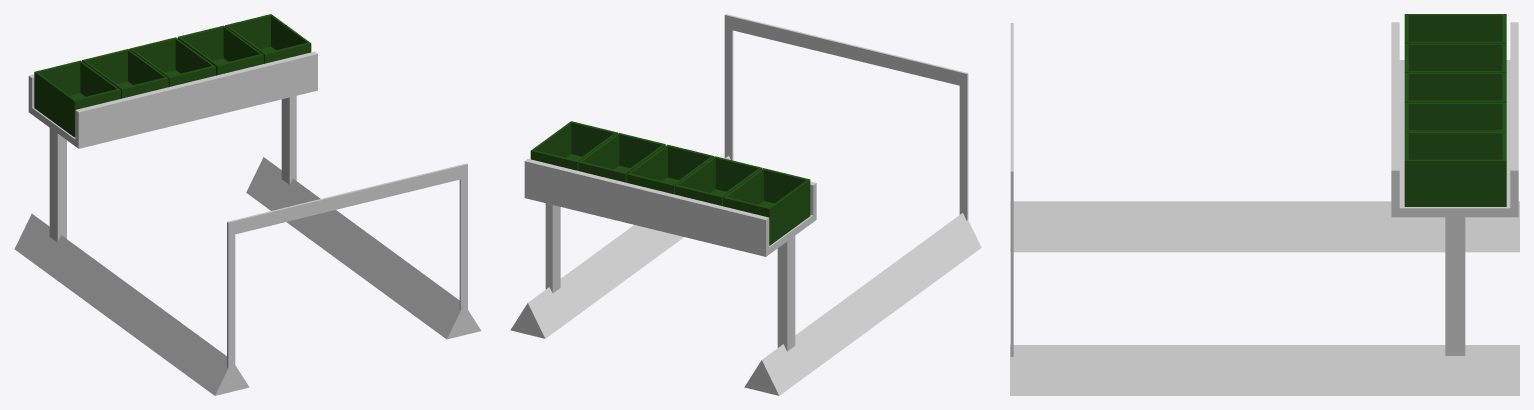
File: test_stand.dae
3 renders of one model, left to right at view 1: azimuth 30°, elevation 25°; view 2: azimuth 150°, elevation 25°; view 3: azimuth 270°, elevation 25°, orthographic. The views are drawn at different scales.
Visible parts, largest first — view 1: basket_platform, crossbeam_left, crossbeam_right, frontplate, basket_1, basket_4, basket_2, basket_3, basket_5; view 2: basket_platform, crossbeam_left, crossbeam_right, frontplate, basket_1, basket_4, basket_2, basket_5, basket_3; view 3: crossbeam_right, crossbeam_left, basket_platform, basket_5, basket_3, basket_1, basket_4, basket_2, frontplate.
Part boxes in pixels (x1,y1,x2,y2): basket_platform: (28, 51, 317, 242); crossbeam_left: (14, 213, 249, 395); crossbeam_right: (246, 157, 481, 339); frontplate: (227, 163, 467, 368); basket_1: (34, 60, 120, 137); basket_4: (177, 25, 263, 75); basket_2: (82, 49, 168, 98); basket_3: (129, 37, 215, 86); basket_5: (225, 14, 311, 63); basket_platform: (524, 159, 816, 351); crossbeam_left: (744, 213, 981, 395); crossbeam_right: (510, 156, 730, 338); frontplate: (724, 14, 968, 220); basket_1: (723, 168, 810, 245); basket_4: (578, 133, 665, 182); basket_2: (675, 156, 762, 206); basket_5: (530, 121, 617, 170); basket_3: (627, 144, 714, 194); crossbeam_right: (1010, 345, 1519, 395); crossbeam_left: (1010, 201, 1519, 252); basket_platform: (1391, 22, 1518, 355); basket_5: (1404, 132, 1506, 206); basket_3: (1404, 73, 1506, 102); basket_1: (1404, 14, 1506, 43); basket_4: (1404, 102, 1506, 131); basket_2: (1404, 43, 1506, 72); frontplate: (1010, 23, 1013, 356).
Size of the model in its own units: 2.3 by 3 by 1.47.
